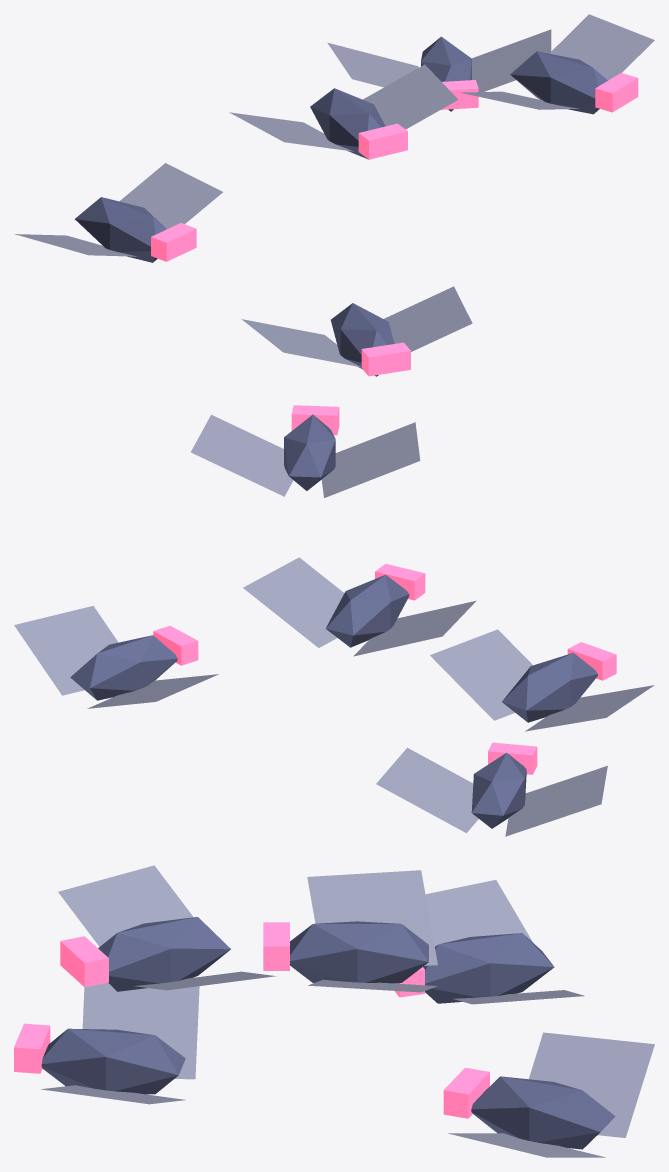
The model's file is moths.glb.
3 views of the same model, one above another, from view 1: azimuth 30°, elevation 25°; view 2: azimuth 150°, elevation 25°; view 3: azimuth 270°, elevation 25° (orthographic). The views are drawn at different scales.
Visible parts, largest first — view 1: B0; view 2: B0; view 3: B0.
Part boxes in pixels (left/top/right/bottom): B0: left=14, top=14, right=654, bottom=376; B0: left=14, top=405, right=654, bottom=836; B0: left=14, top=865, right=654, bottom=1157.
Bounding box in the file's own units: 1.07 × 0.4351 × 0.835.
